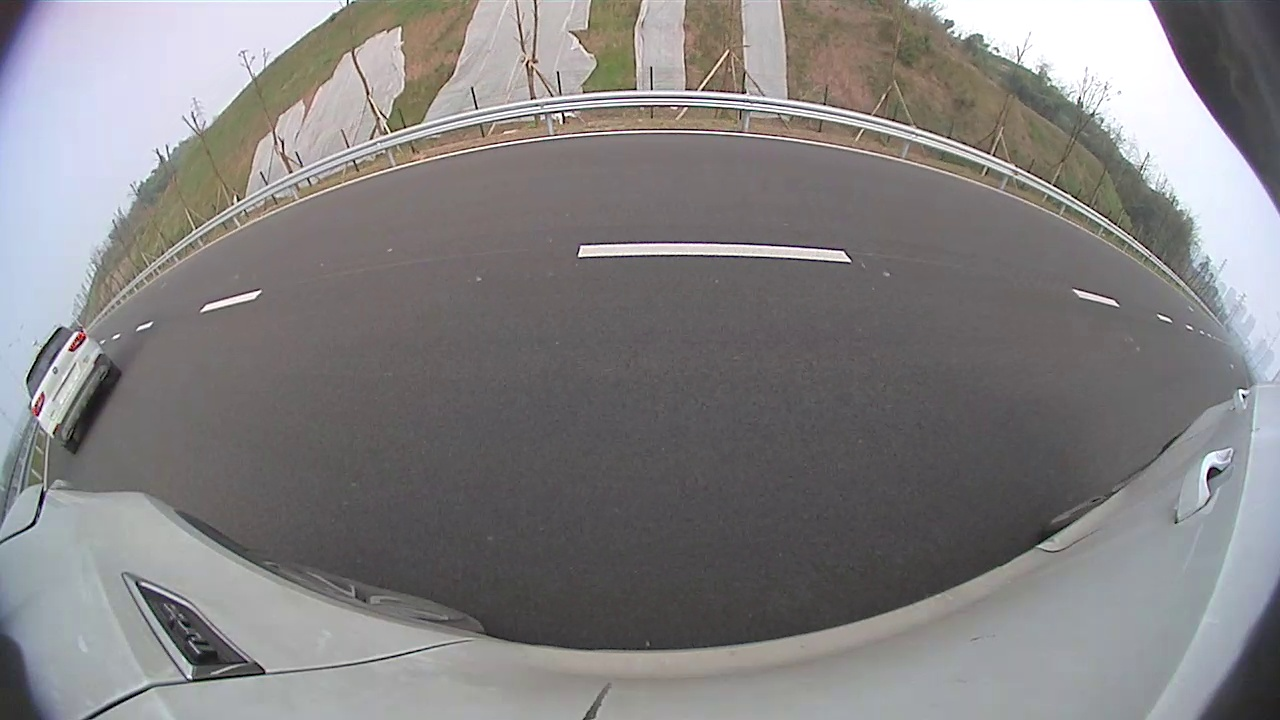car: (461, 145, 561, 217)
rear: (528, 178, 541, 206)
